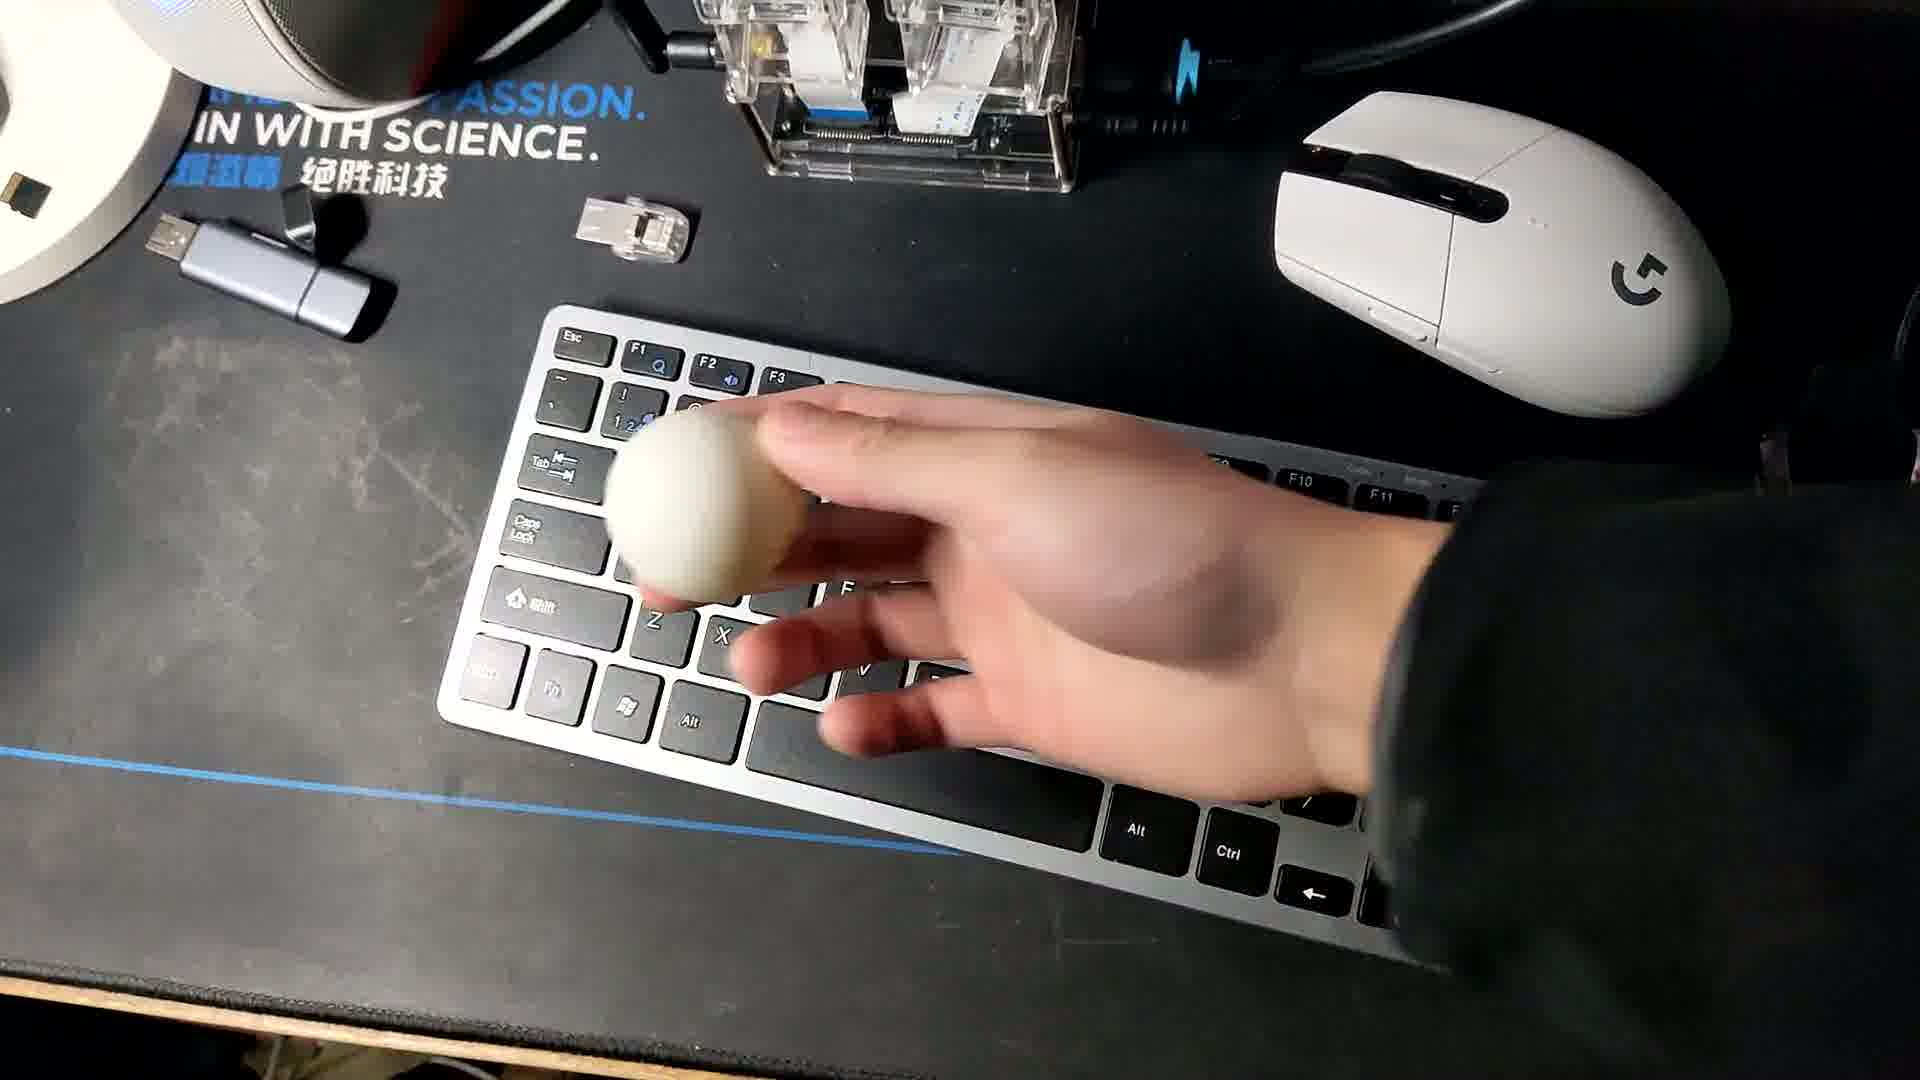Ball: (605, 407, 808, 603)
